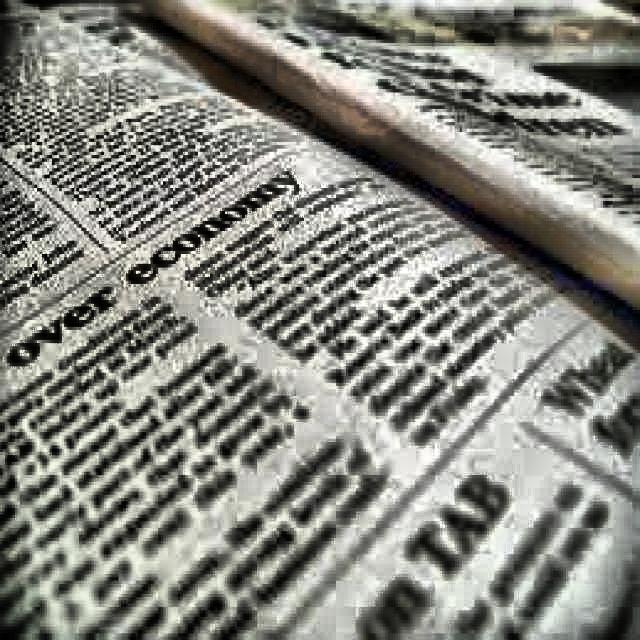Paper: (0, 0, 638, 637), (131, 0, 637, 307)
